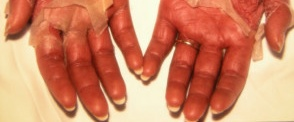SJS-TEN: (140, 0, 294, 122), (3, 0, 145, 122)
